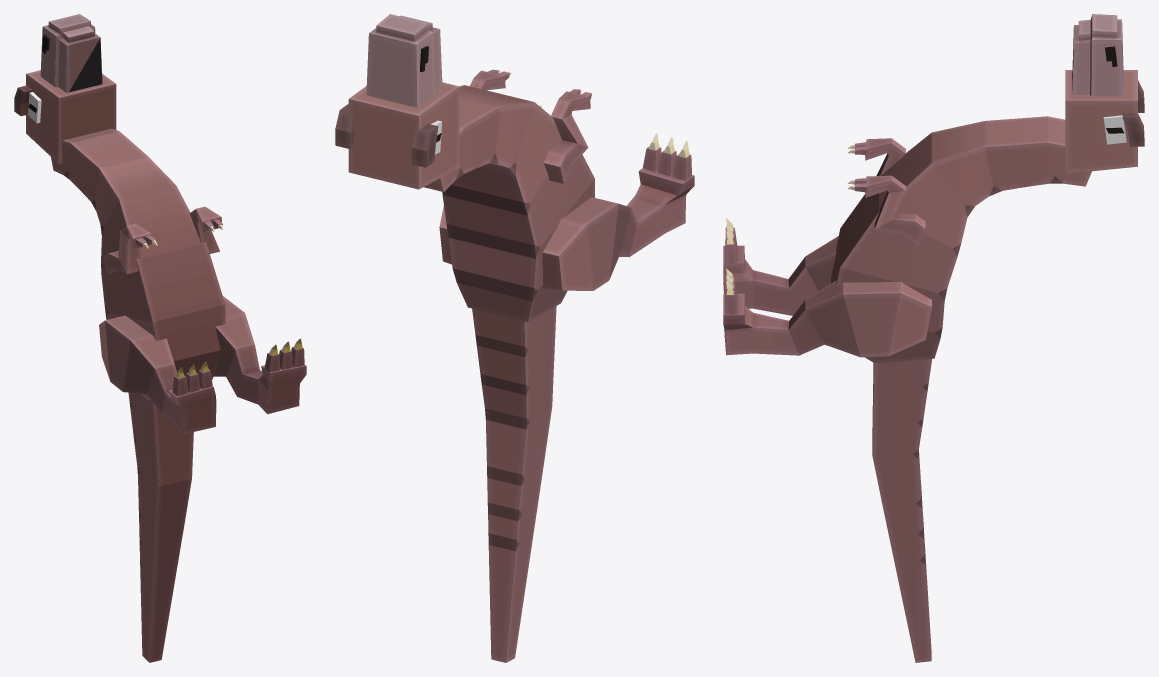
Rendered from galimimus.fbx.
3 renders of one model, left to right at view 1: azimuth 30°, elevation 25°; view 2: azimuth 150°, elevation 25°; view 3: azimuth 270°, elevation 25°, orthographic. The views are drawn at different scales.
Visible parts, largest first — view 1: Gallimimus; view 2: Gallimimus; view 3: Gallimimus.
Boxes of the visible parts, <box> form: Gallimimus: <box>14,14,306,662</box>; Gallimimus: <box>335,14,694,662</box>; Gallimimus: <box>723,14,1144,662</box>.
Bounding box in the file's own units: 147 × 628 × 376.
1 material, 1 textured.
